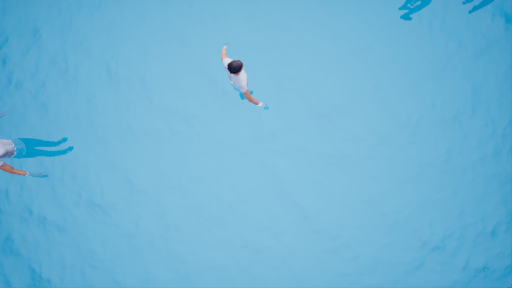person: (1, 118, 79, 182), (211, 46, 270, 114)
